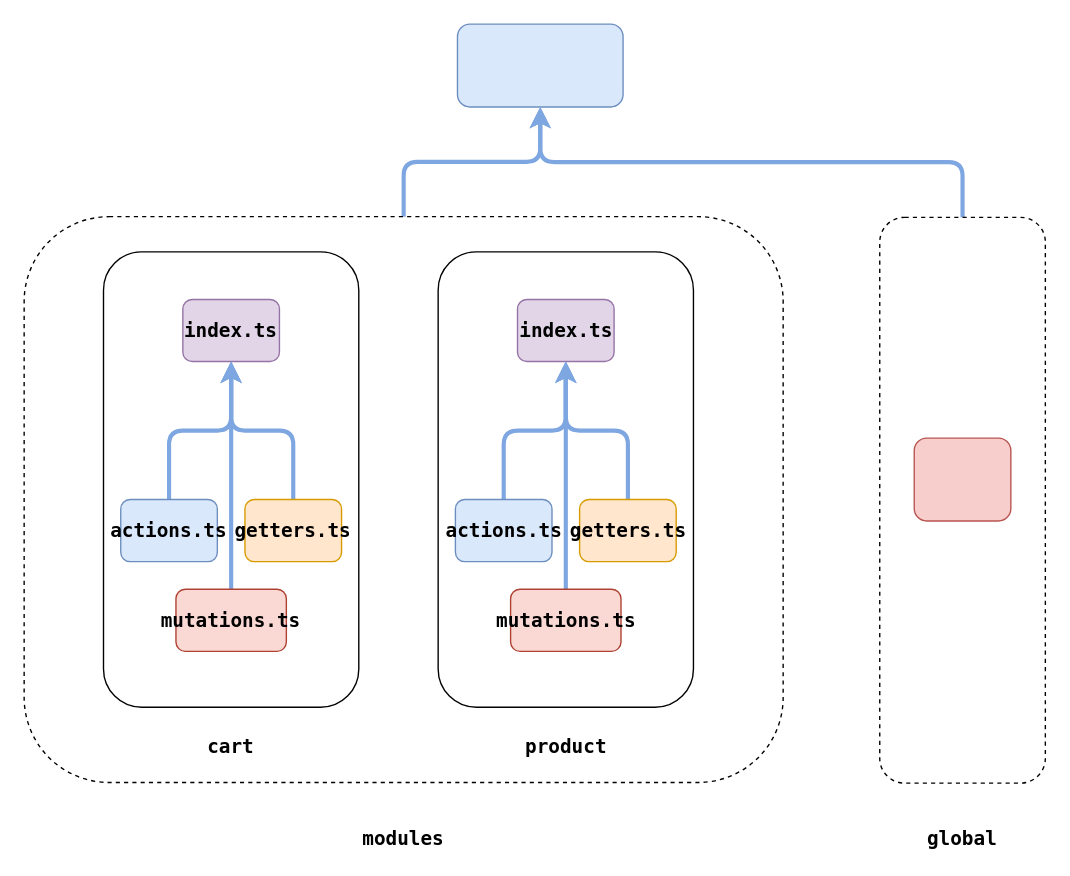
Some shapes in this 1070 by 876 pixel diagram are drawn without their labels. Here are the shapes that lost their labels. From the top down, the centre of each, then its label:
(539,65): store/index.ts
(962,479): types
